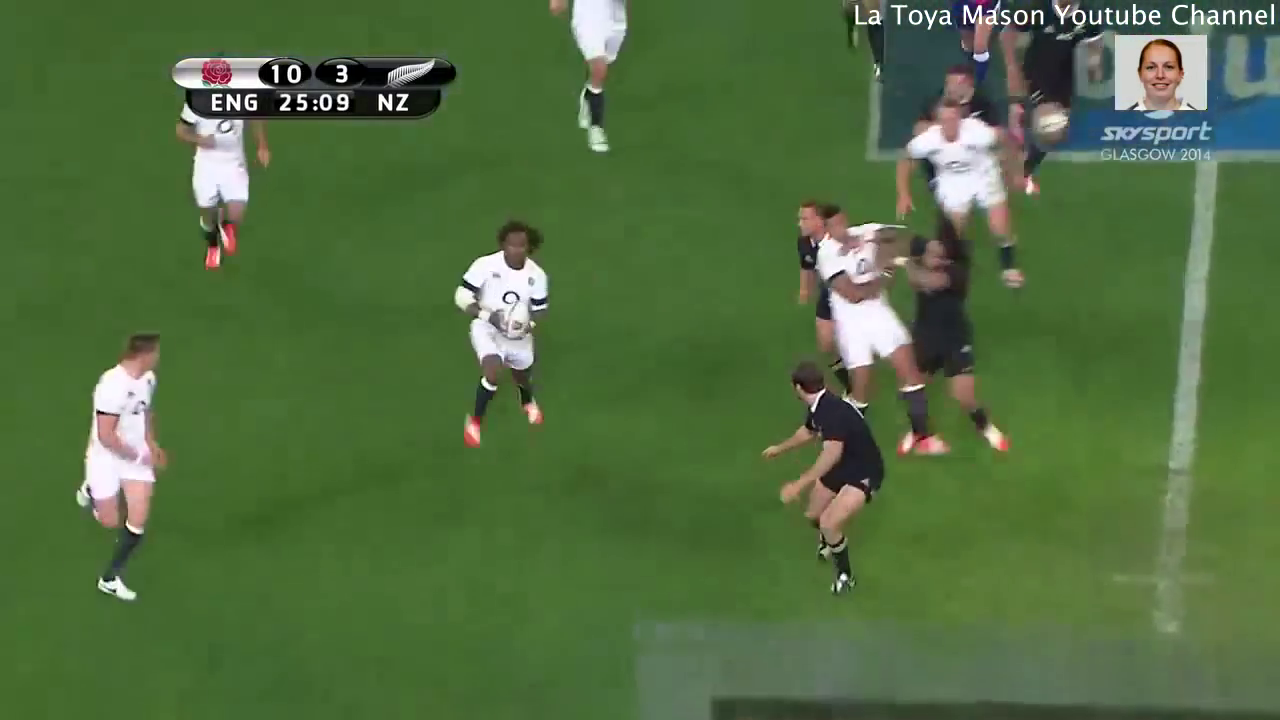ball: (494, 297, 541, 349)
player: (747, 355, 901, 604), (872, 220, 1017, 483), (63, 323, 179, 616), (813, 196, 927, 467), (877, 97, 1026, 300), (441, 212, 560, 452), (996, 1, 1112, 210), (171, 97, 277, 281), (538, 1, 635, 168), (774, 180, 846, 402)
